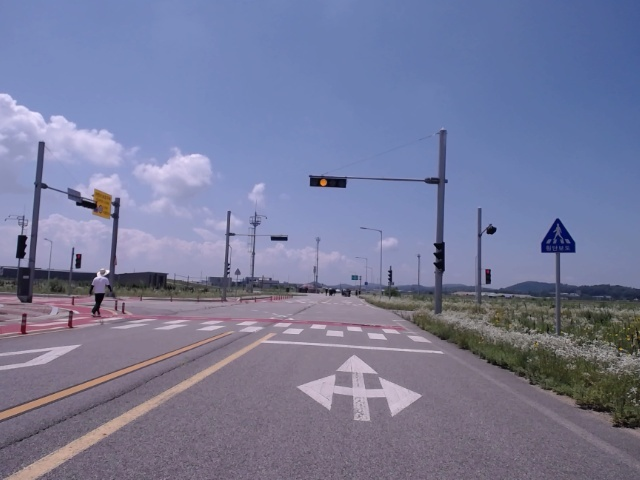orange_4: (308, 174, 347, 188)
